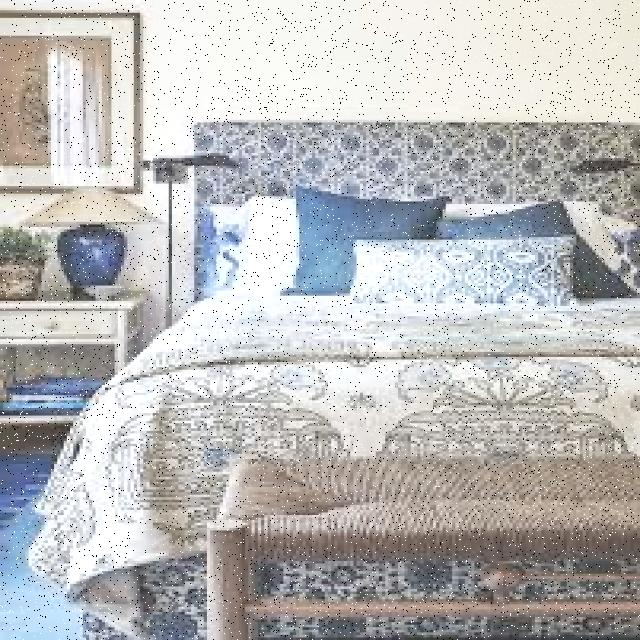bed: (93, 191, 640, 454)
